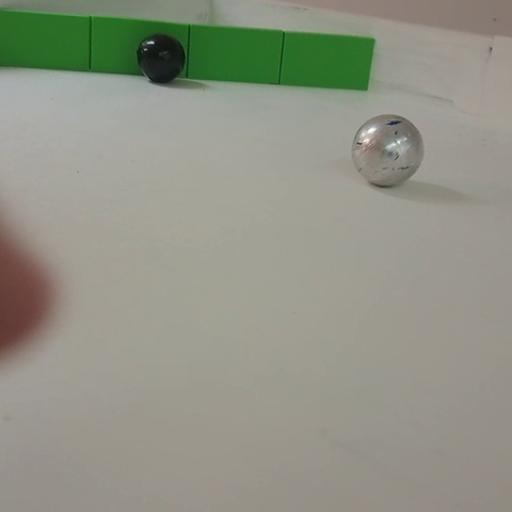alive: (352, 114, 424, 187)
dead: (136, 33, 185, 83)
